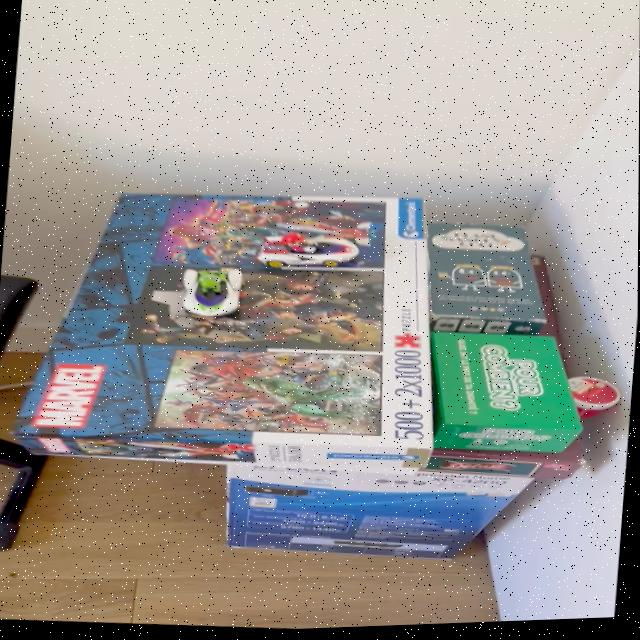mario: (256, 228, 365, 279)
yoshi: (174, 262, 250, 326)
